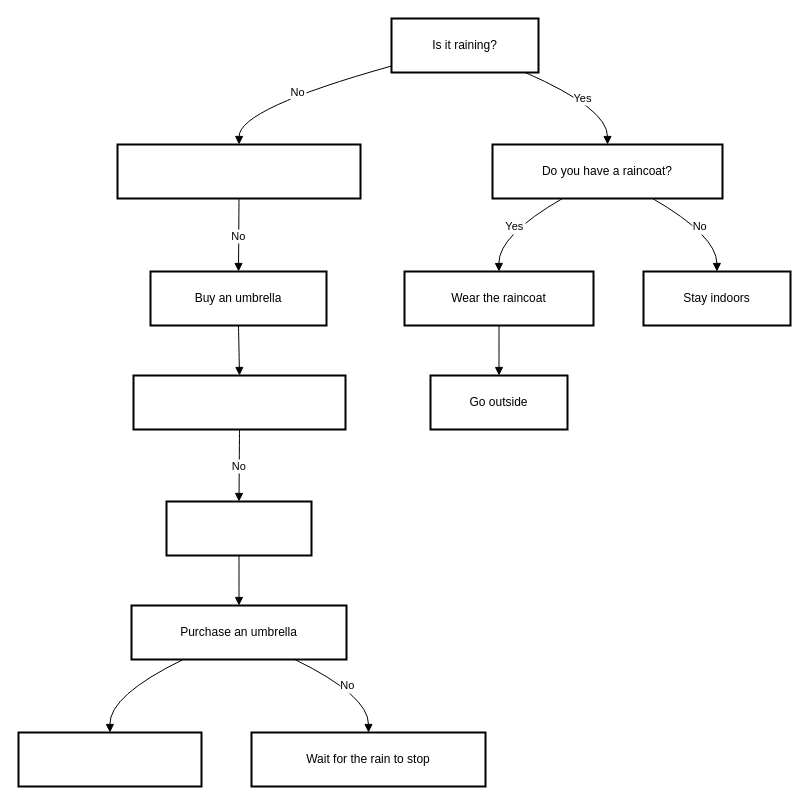
This 808x804 diagram has some shape labels left out. The centre of each missing label's shape, as x and y in pixels:
"Are you near a store?" goes at (239,402).
"Do you have an umbrella?" goes at (238,171).
"Find a store" goes at (238,528).
"Use the umbrella" goes at (109,759).
